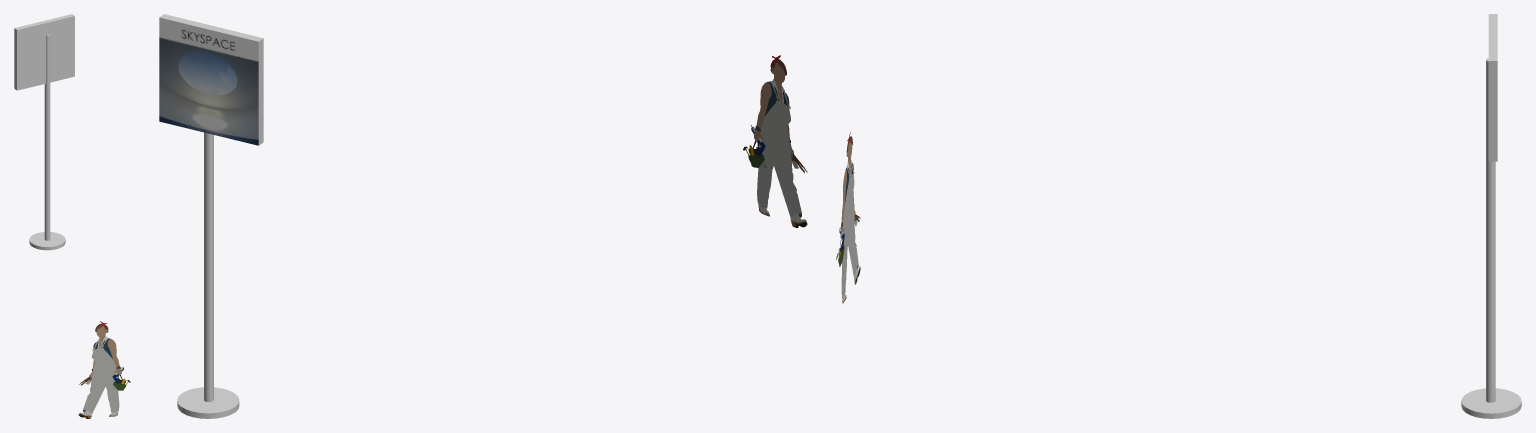
Rendered from skySign.fbx.
The picture shows the model from 3 angles, left to right: view 1: azimuth 30°, elevation 25°; view 2: azimuth 150°, elevation 25°; view 3: azimuth 270°, elevation 25°; orthographic projection. The views are drawn at different scales.
Parts seen in each view (by area): view 1: Model, Lisanne1; view 2: Model, Lisanne1; view 3: Model, Lisanne1.
Boxes of the visible parts, <box> form: Model: <box>14,14,74,250</box>; Lisanne1: <box>78,321,130,418</box>; Model: <box>159,14,263,418</box>; Lisanne1: <box>743,55,807,227</box>; Model: <box>1461,14,1521,418</box>; Lisanne1: <box>836,132,860,303</box>.
Size of the model in its own units: 134 by 152 by 258.
